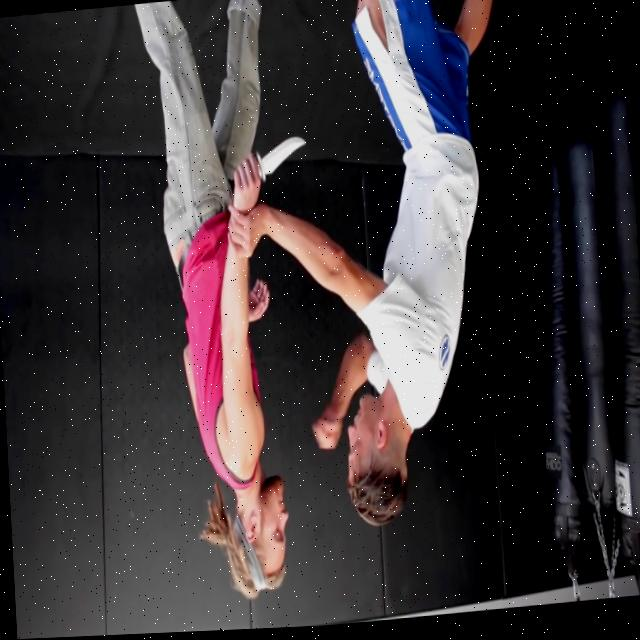knife: (255, 132, 307, 186)
